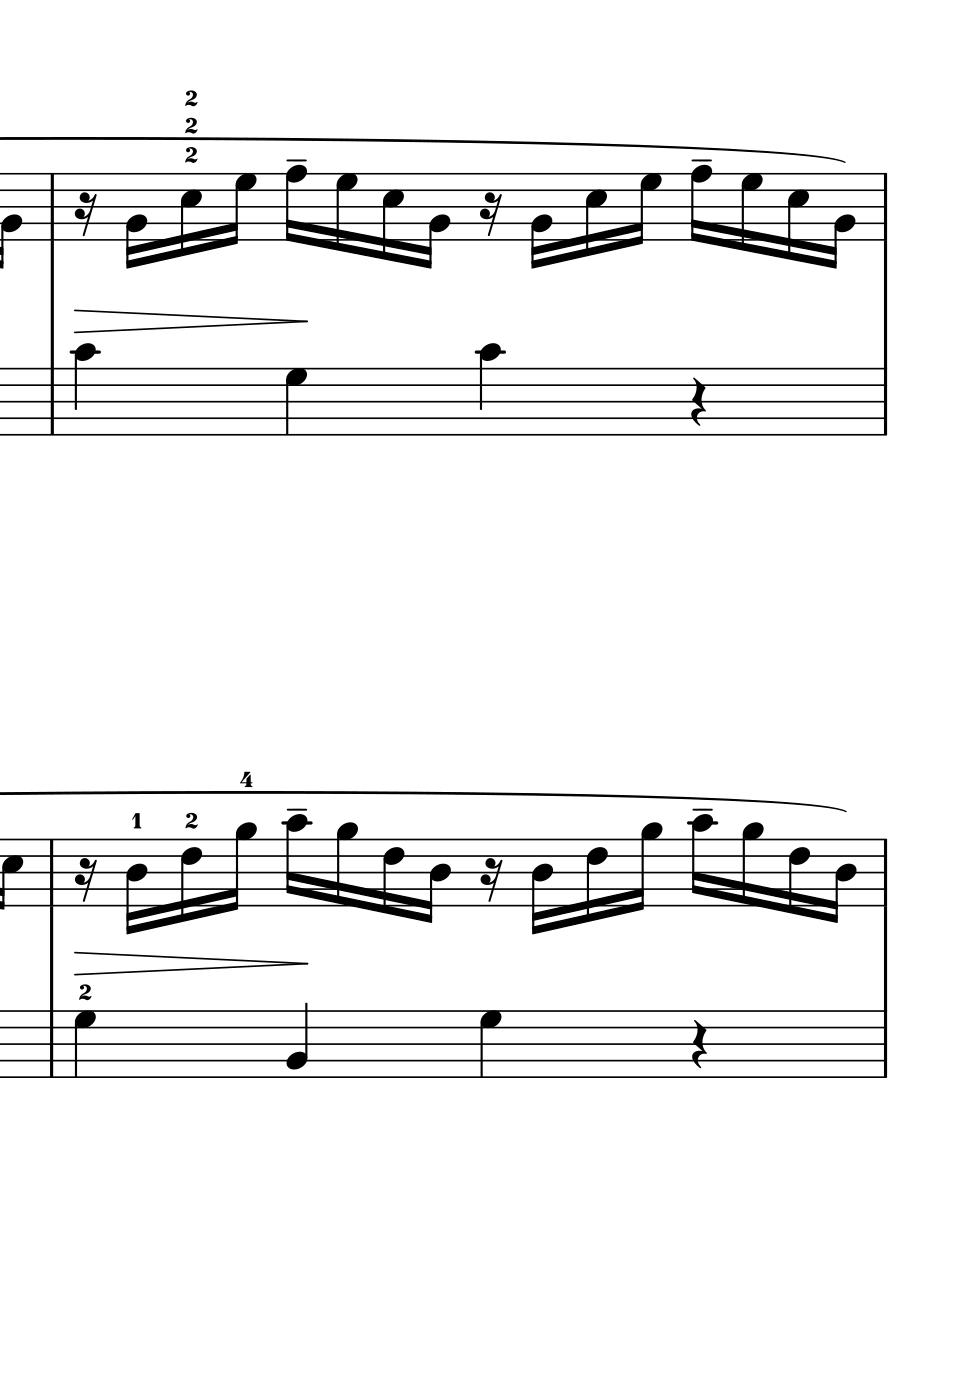1: (132, 810, 143, 830)
16_10: (283, 812, 310, 909), (689, 811, 716, 907)
16_2: (420, 171, 449, 270), (826, 171, 855, 270), (123, 171, 147, 271), (528, 171, 552, 270)
16_4: (421, 836, 451, 924), (828, 836, 857, 924), (123, 837, 147, 935), (529, 837, 553, 935)
16_5: (783, 170, 809, 264), (379, 170, 404, 264), (582, 170, 607, 260), (177, 171, 202, 259), (1, 837, 24, 911)
16_6: (178, 836, 203, 926), (786, 835, 811, 919), (584, 836, 608, 925), (381, 836, 404, 918)
16_7: (629, 170, 661, 249), (224, 171, 256, 248), (737, 170, 762, 257), (333, 170, 357, 255)
16_8: (688, 162, 712, 247), (283, 164, 307, 246)
16_9: (224, 820, 257, 914), (629, 820, 661, 913), (333, 820, 357, 910), (739, 820, 763, 909)
2: (181, 144, 202, 164), (182, 87, 198, 109), (182, 115, 199, 134), (183, 812, 198, 830)
4: (238, 768, 256, 789)
4_10: (69, 343, 99, 439), (475, 341, 503, 438)
4_2: (284, 1001, 310, 1080)
4_7: (71, 1008, 97, 1080), (283, 366, 308, 436), (478, 1008, 503, 1078)
Diminuendo_hairpin: (75, 308, 307, 334), (75, 950, 310, 976)
Rests16: (73, 190, 98, 236), (479, 190, 503, 238), (74, 856, 98, 903), (479, 856, 503, 903)
Rests4: (687, 376, 708, 429), (688, 1018, 710, 1071)
Single_barline: (43, 368, 60, 435), (43, 173, 59, 241), (43, 1010, 59, 1077), (876, 369, 892, 435), (877, 1012, 893, 1077), (43, 839, 58, 905), (878, 172, 892, 241), (878, 839, 892, 906)
